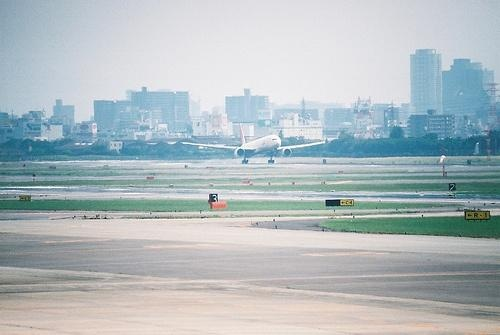aeroplane: (185, 125, 330, 167)
